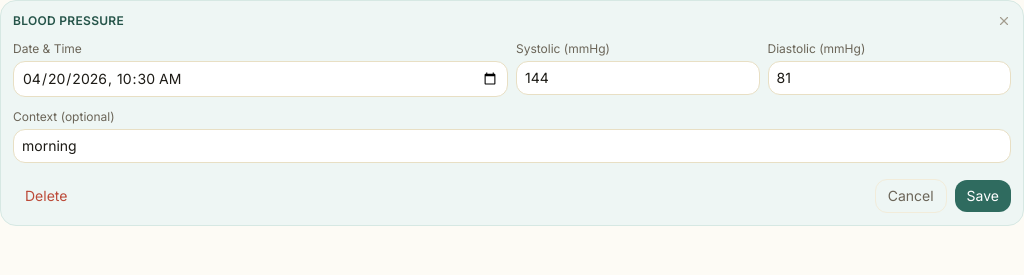
it: VitalEditRow › shows an error message when save fails
Step 1. Click the button "Save" → {"x": 983, "y": 196}, box x1=955 y1=180 x2=1011 y2=212
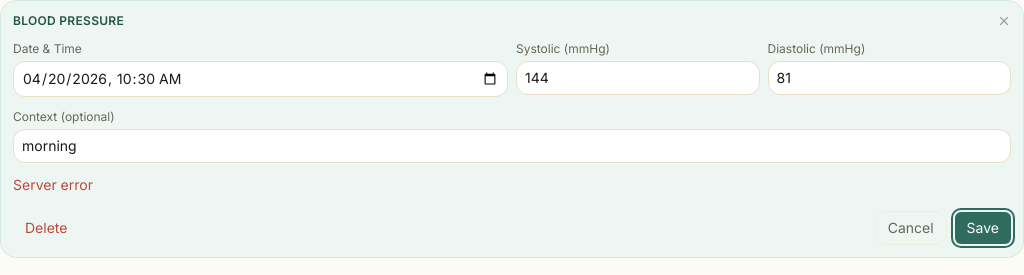
Expected: the text "Server error" is shown, x1=13 y1=176 x2=93 y2=193
